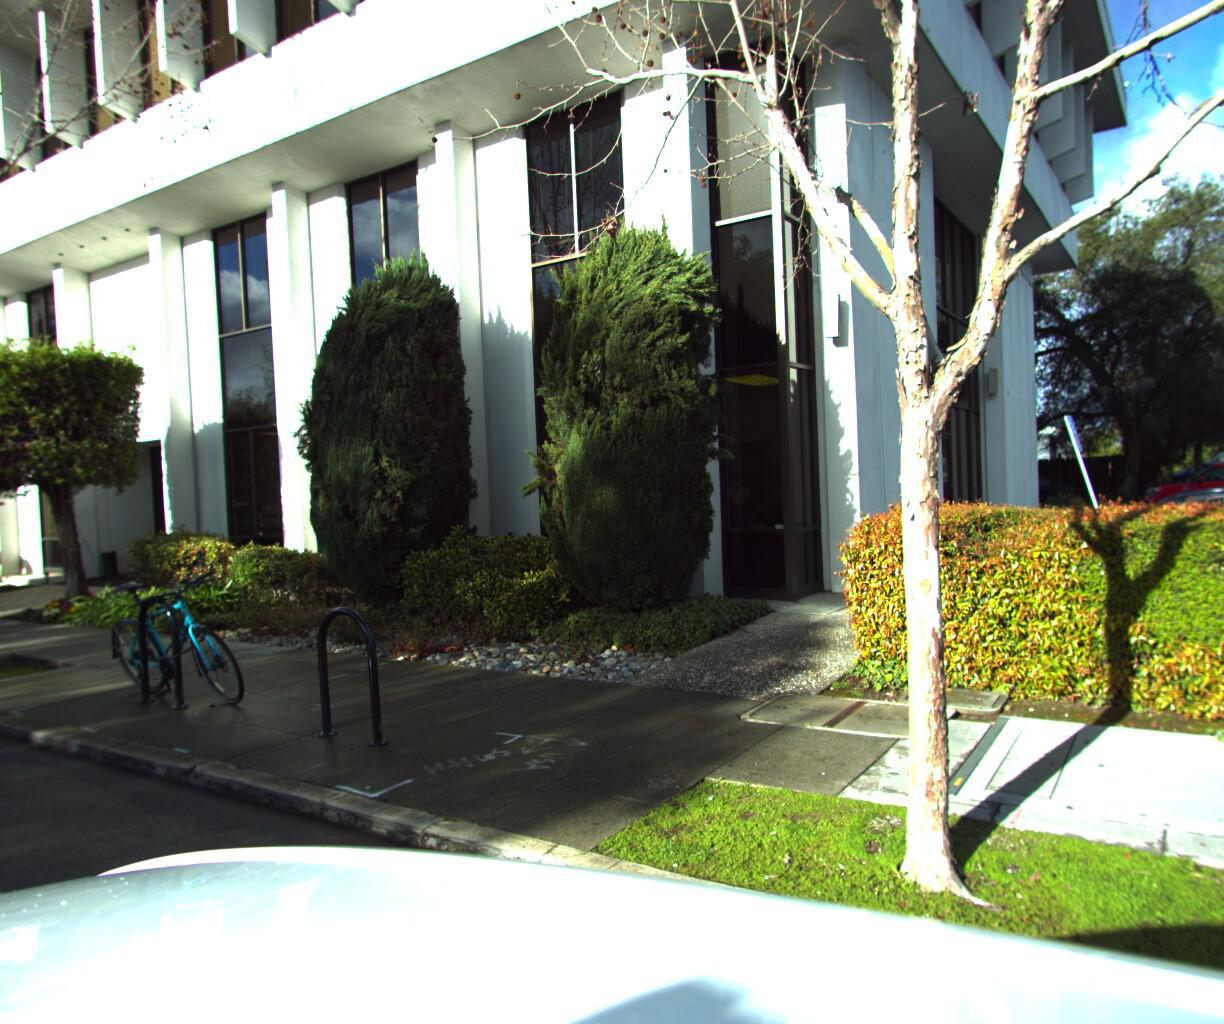bicycle: (36, 564, 268, 736)
